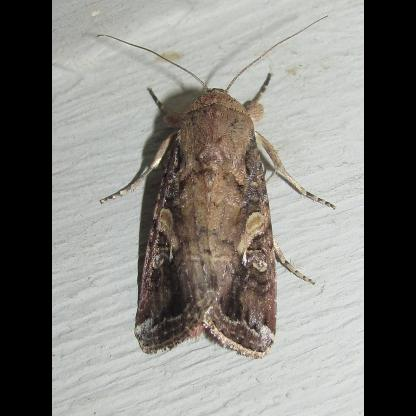Fall Armyworm Moth: (93, 12, 343, 364)
